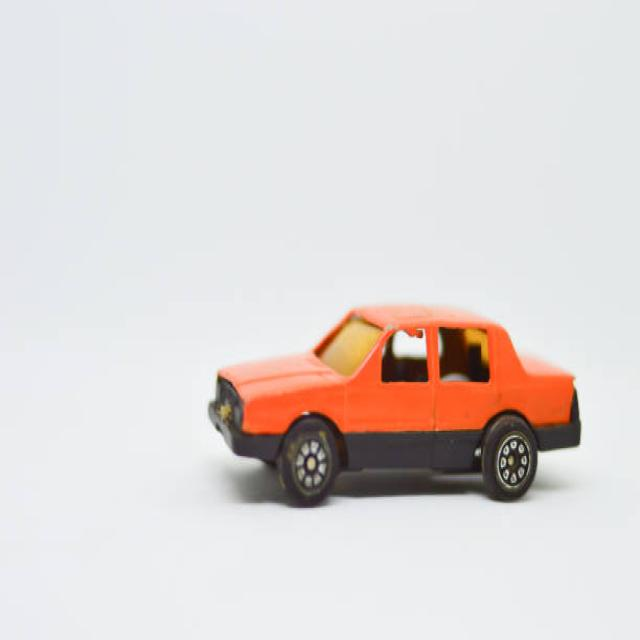Car: (207, 302, 581, 506)
